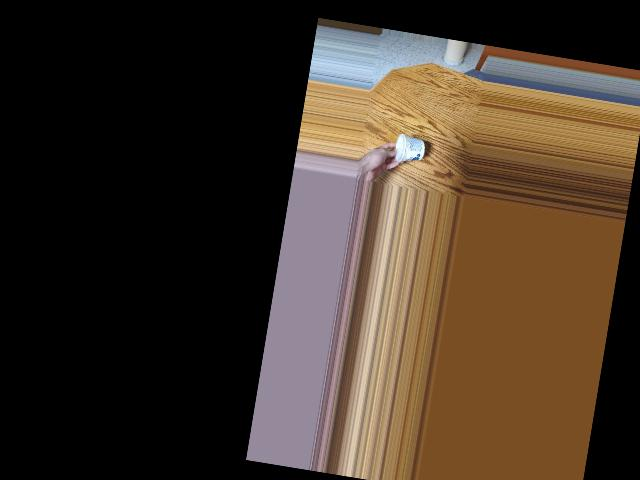cotage: (392, 130, 423, 165)
